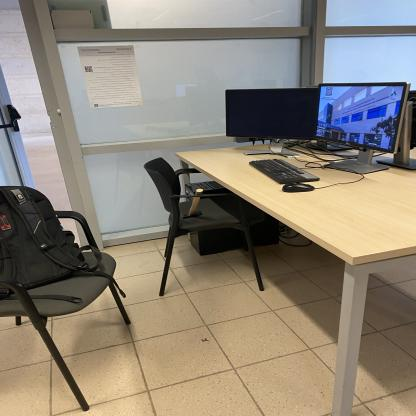Hammer: (182, 186, 204, 223)
